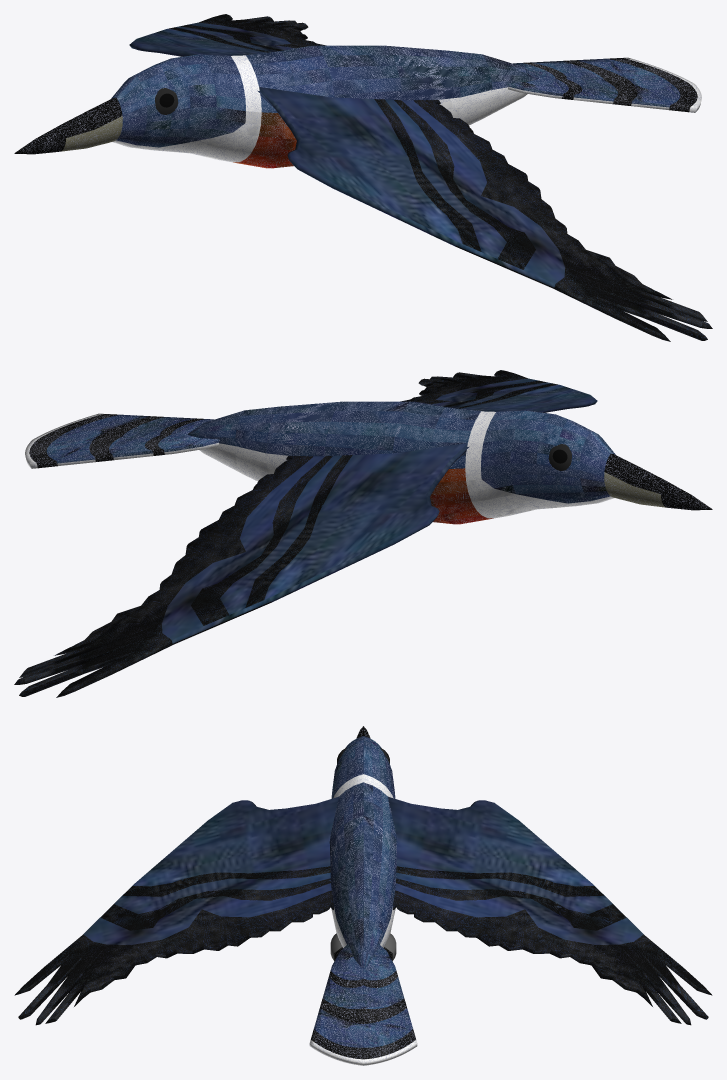
The model's file is bigbird.dae.
3 renders of one model, top to bottom at view 1: azimuth 30°, elevation 25°; view 2: azimuth 150°, elevation 25°; view 3: azimuth 270°, elevation 25°, orthographic. The views are drawn at different scales.
Parts seen in each view (by area): view 1: Component_3 (×6), Component_6 (×7), Component_5 (×5); view 2: Component_3 (×6), Component_6 (×7), Component_5 (×5); view 3: Component_3 (×8), Component_6 (×2), Component_5 (×7).
Boxes of the visible parts, x1=… form: Component_3 (×6): x1=129, y1=14, x2=712, y2=341; Component_6 (×7): x1=14, y1=45, x2=539, y2=168; Component_5 (×5): x1=507, y1=58, x2=697, y2=112; Component_3 (×6): x1=14, y1=370, x2=597, y2=697; Component_6 (×7): x1=187, y1=401, x2=712, y2=524; Component_5 (×5): x1=29, y1=414, x2=219, y2=468; Component_3 (×8): x1=14, y1=796, x2=712, y2=1025; Component_6 (×2): x1=329, y1=736, x2=397, y2=968; Component_5 (×7): x1=309, y1=944, x2=417, y2=1065.
Size of the model in its own units: 33.16 by 37.58 by 9.25.
Materials: 10 (4 with a texture image).
